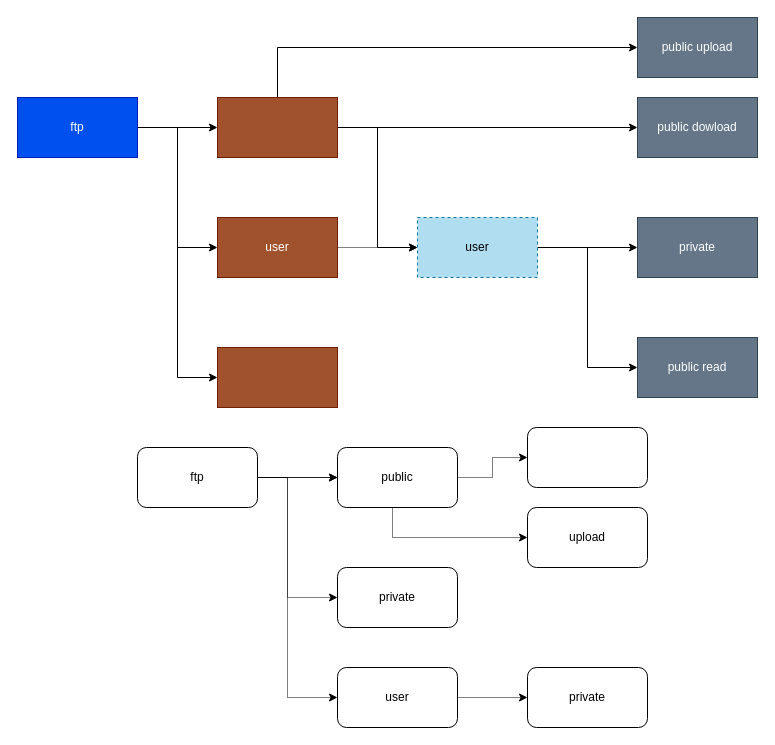
The diagram is 775 pixels wide and 745 high, and some of its shapes have lost their labels. Each missing label, with the box of its shape:
admin: (216, 96, 338, 158)
anonimoous: (216, 346, 338, 408)
download: (526, 426, 648, 488)
